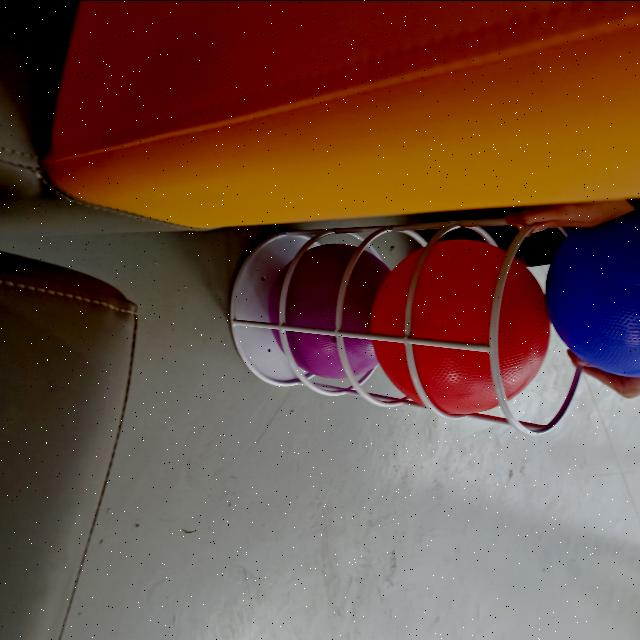B: (548, 206, 640, 380)
P: (275, 238, 383, 382)
R: (366, 226, 554, 428)
S: (228, 232, 504, 428)
